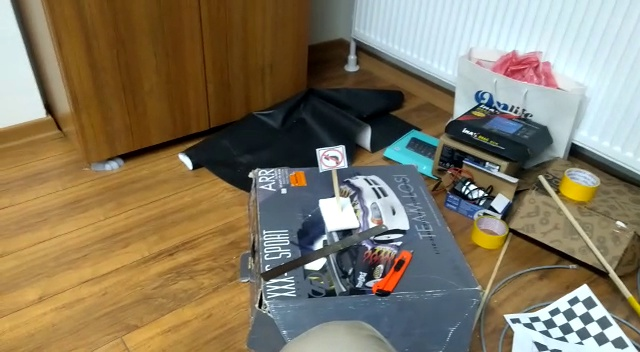sola_donulmez: (318, 145, 344, 173)
